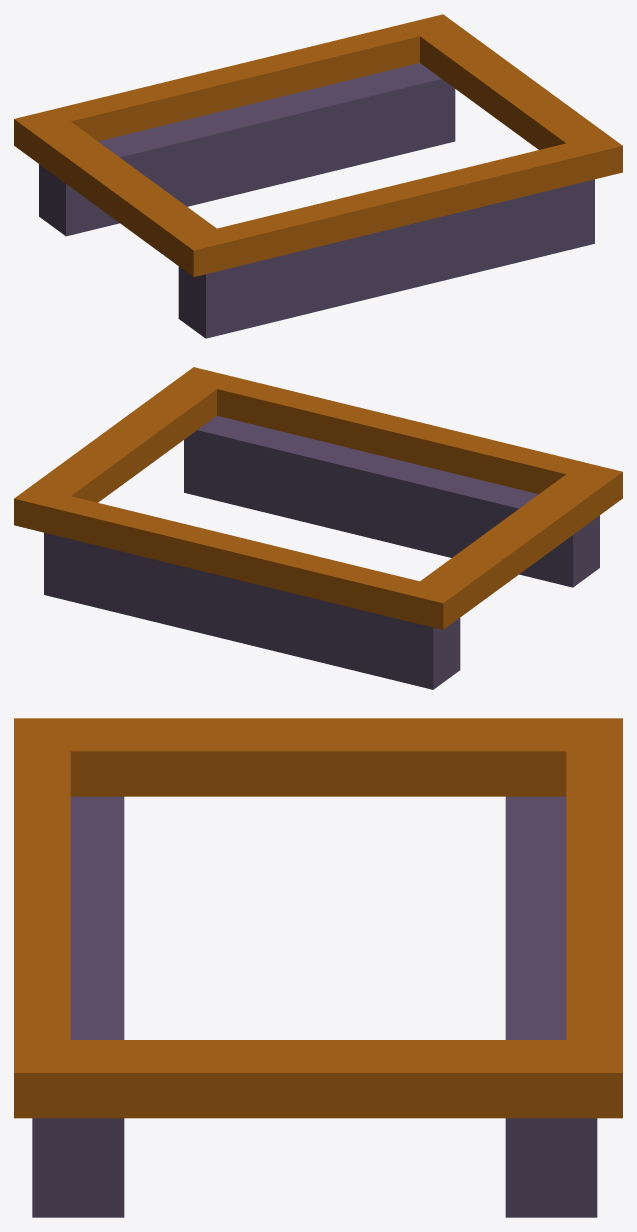
The model's file is SM_Prototype _09.fbx.
3 views of the same model, one above another, from view 1: azimuth 30°, elevation 25°; view 2: azimuth 150°, elevation 25°; view 3: azimuth 270°, elevation 25° (orthographic). The views are drawn at different scales.
Parts seen in each view (by area): view 1: SM_Prototype _09; view 2: SM_Prototype _09; view 3: SM_Prototype _09.
Boxes of the visible parts, x1=… form: SM_Prototype _09: x1=14, y1=14, x2=622, y2=338; SM_Prototype _09: x1=14, y1=367, x2=622, y2=689; SM_Prototype _09: x1=14, y1=718, x2=622, y2=1217.
Size of the model in its own units: 9.88 by 2.12 by 7.17.
